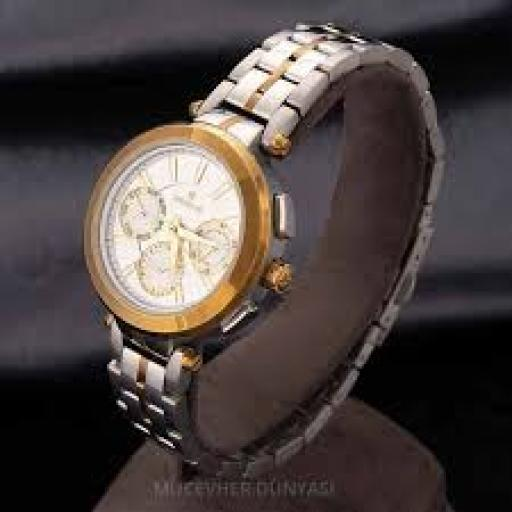KolSaati: (54, 18, 476, 479)
